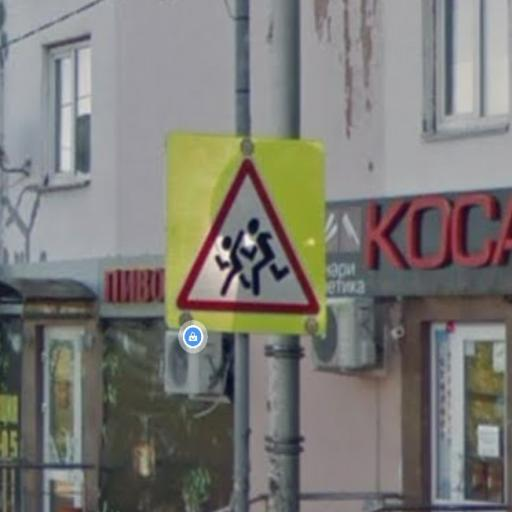traffic_sign: (175, 155, 326, 321)
